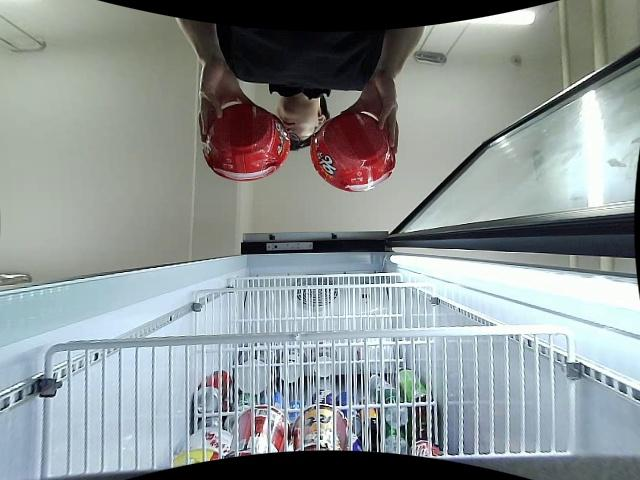00_hand: (195, 57, 257, 144), (339, 72, 399, 155)
10_wangTtukkeong: (201, 102, 289, 183), (311, 111, 395, 192)
